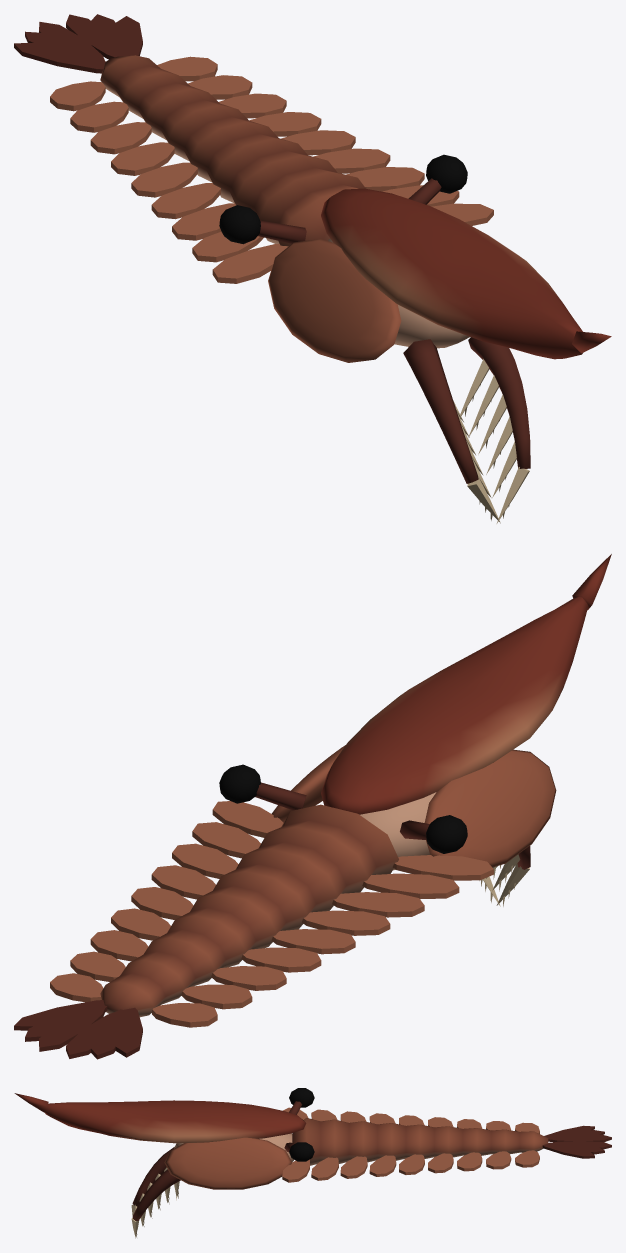
Rendered from Hurdia.fbx.
The picture shows the model from 3 angles, top to bottom: view 1: azimuth 30°, elevation 25°; view 2: azimuth 150°, elevation 25°; view 3: azimuth 270°, elevation 25°; orthographic projection. The views are drawn at different scales.
Visible parts, largest first — view 1: Hurdia; view 2: Hurdia; view 3: Hurdia.
Part boxes in pixels (<box>): Hurdia: <box>14,14,611,523</box>; Hurdia: <box>14,554,611,1059</box>; Hurdia: <box>14,1088,611,1238</box>.
Bounding box in the file's own units: 0.5344 × 0.501 × 1.87.
